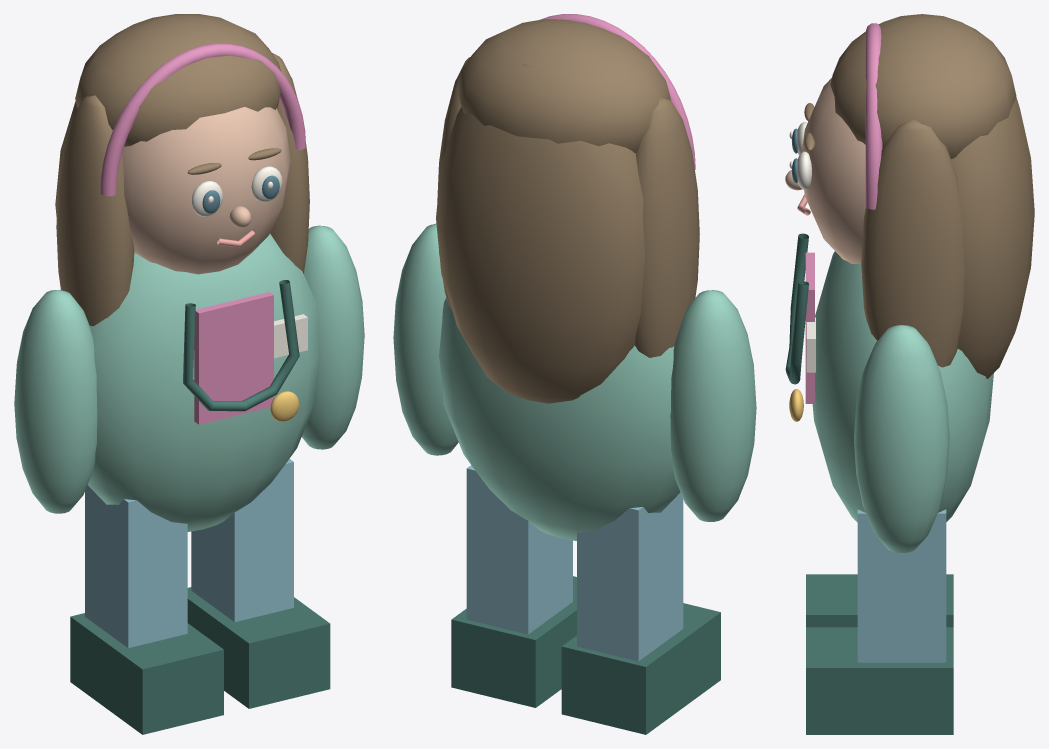
Rendered from louise.glb.
The picture shows the model from 3 angles, left to right: view 1: azimuth 30°, elevation 25°; view 2: azimuth 150°, elevation 25°; view 3: azimuth 270°, elevation 25°; orthographic projection. The views are drawn at different scales.
Parts seen in each view (by area): view 1: body.006, head.005, hair crown, arm, leg, shoe, long side hair, leg.001, shoe.001, arm.001, pink top, pink headband (+6 smaller); view 2: long hair back, body.006, hair crown, arm, leg, long side hair, shoe, leg.001, arm.001, shoe.001, pink headband, long side hair.001; view 3: long side hair.001, hair crown, arm.001, long hair back, body.006, shoe.001, leg.001, head.005, shoe, pink headband, stethoscope, pink top (+2 smaller).
Boxes of the visible parts, x1=… form: body.006: x1=87, y1=234, x2=320, y2=531; head.005: x1=122, y1=107, x2=290, y2=274; hair crown: x1=75, y1=14, x2=280, y2=146; arm: x1=14, y1=290, x2=97, y2=513; leg: x1=85, y1=485, x2=187, y2=648; shoe: x1=70, y1=613, x2=223, y2=734; long side hair: x1=56, y1=95, x2=134, y2=326; leg.001: x1=191, y1=459, x2=293, y2=622; shoe.001: x1=187, y1=587, x2=330, y2=708; arm.001: x1=301, y1=225, x2=364, y2=449; pink top: x1=194, y1=292, x2=273, y2=424; pink headband: x1=100, y1=43, x2=305, y2=196; long hair back: x1=436, y1=63, x2=645, y2=403; body.006: x1=439, y1=298, x2=680, y2=540; hair crown: x1=456, y1=19, x2=671, y2=152; arm: x1=670, y1=290, x2=756, y2=521; leg: x1=577, y1=492, x2=683, y2=661; long side hair: x1=634, y1=97, x2=699, y2=357; shoe: x1=561, y1=603, x2=720, y2=734; leg.001: x1=466, y1=465, x2=572, y2=634; arm.001: x1=393, y1=223, x2=458, y2=455; shoe.001: x1=451, y1=576, x2=576, y2=707; pink headband: x1=540, y1=14, x2=695, y2=169; long side hair.001: x1=437, y1=57, x2=470, y2=309; long side hair.001: x1=861, y1=119, x2=964, y2=367; hair crown: x1=830, y1=14, x2=1016, y2=158; arm.001: x1=854, y1=325, x2=949, y2=552; long hair back: x1=951, y1=37, x2=1034, y2=378; body.006: x1=812, y1=251, x2=993, y2=522; shoe.001: x1=806, y1=627, x2=953, y2=734; leg.001: x1=857, y1=509, x2=946, y2=662; head.005: x1=801, y1=78, x2=865, y2=263; shoe: x1=806, y1=574, x2=953, y2=627; pink headband: x1=865, y1=23, x2=882, y2=209; stethoscope: x1=785, y1=233, x2=808, y2=384; pink top: x1=805, y1=252, x2=814, y2=403.
Bounding box in the file's own units: 1.08 × 1.97 × 0.676.
